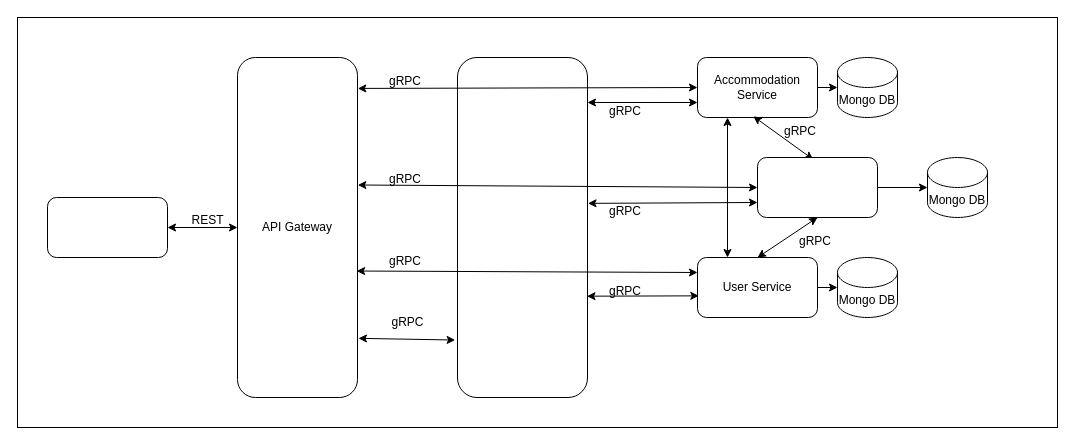
Image size: 1075x445. Some labels were removed from this diagram. The centre of each missing label's shape, as x and y in pixels:
Authorization Service: point (522, 227)
Booking Service: point (817, 187)
Client App: point (107, 227)
